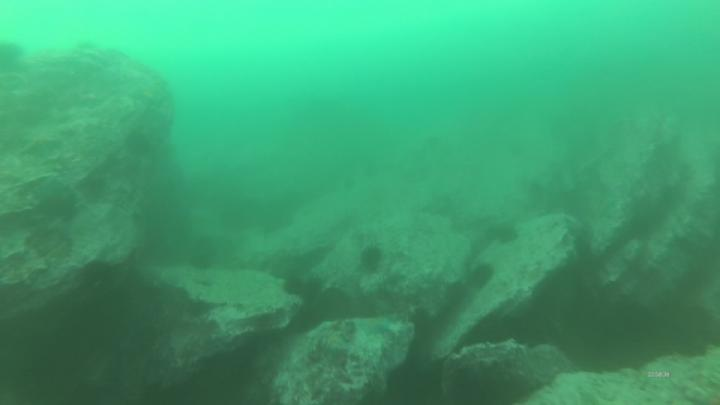echinus: (322, 289, 351, 321), (363, 246, 382, 271), (473, 264, 490, 285), (494, 227, 516, 243)
starfish: (363, 316, 391, 336)
